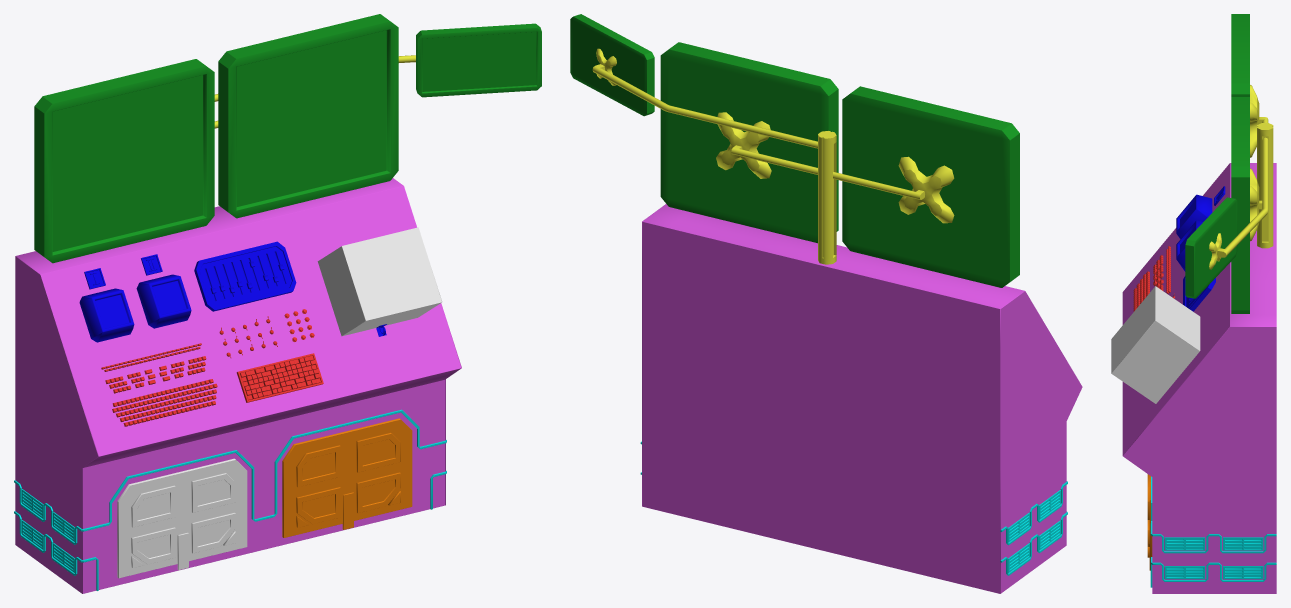
Rendered from morse code panel2.1.fbx.
3 views of the same model, side by side, from view 1: azimuth 30°, elevation 25°; view 2: azimuth 150°, elevation 25°; view 3: azimuth 270°, elevation 25° (orthographic). The views are drawn at different scales.
Parts seen in each view (by area): view 1: base, screens, ventClosed, ventClosed2, screenPanels, box, keyboards, ventsOutlined; view 2: base, screens, screenHolders, ventsOutlined; view 3: base, screens, box, screenHolders, ventsOutlined, screenPanels, keyboards, ventClosed.
Part boxes in pixels (x1,y1,x2,y2): base: (15,178,461,593); screens: (34,14,541,263); ventClosed: (282,418,412,537); ventClosed2: (117,458,247,578); screenPanels: (79,241,386,342); box: (317,227,442,336); keyboards: (101,309,323,426); ventsOutlined: (14,409,446,590); base: (642,204,1082,593); screens: (570,14,1019,287); screenHolders: (592,48,954,264); ventsOutlined: (640,441,1067,575); base: (1122,163,1276,593); screens: (1185,14,1249,313); box: (1111,286,1200,403); screenHolders: (1209,85,1273,269); ventsOutlined: (1150,476,1276,587); screenPanels: (1176,186,1225,311); keyboards: (1133,246,1174,311); ventClosed: (1147,474,1152,570).
Size of the model in its own units: 331 by 300 by 106.
